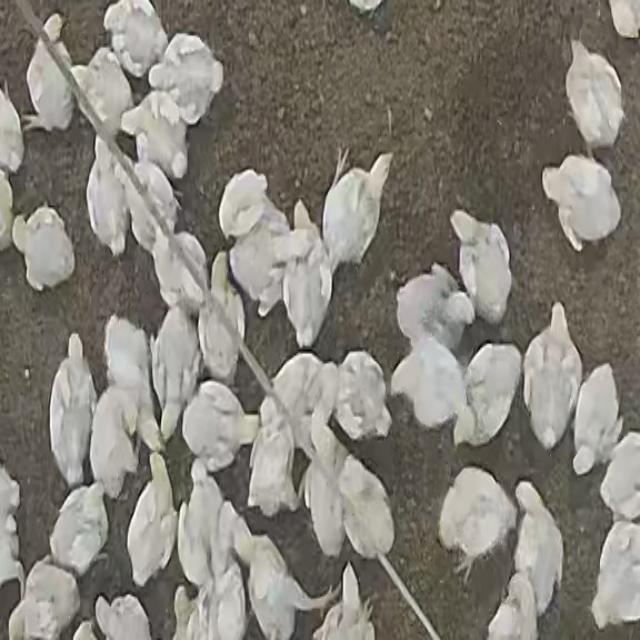chicken: (234, 522, 340, 640), (219, 170, 293, 314), (437, 464, 517, 583), (523, 305, 583, 451), (277, 202, 333, 348), (390, 335, 469, 438), (322, 153, 392, 267), (48, 335, 97, 492), (148, 32, 226, 130), (302, 393, 349, 555), (392, 263, 472, 355), (510, 479, 562, 620), (563, 35, 625, 153), (152, 300, 204, 437), (546, 152, 620, 248), (450, 207, 511, 320), (458, 343, 523, 449), (120, 90, 190, 187), (180, 380, 250, 476), (335, 453, 396, 563), (198, 520, 254, 639), (126, 451, 176, 584), (126, 143, 184, 255), (245, 395, 298, 517), (269, 353, 327, 464), (88, 383, 142, 500), (23, 19, 77, 134), (180, 459, 227, 590), (197, 261, 246, 385), (146, 215, 206, 314), (50, 480, 109, 580), (85, 135, 132, 258), (332, 348, 392, 442), (571, 364, 622, 474), (590, 518, 640, 630), (11, 560, 81, 639), (75, 47, 133, 140), (12, 205, 74, 291), (102, 1, 168, 79), (102, 316, 151, 410), (597, 429, 640, 520), (484, 572, 538, 640), (0, 458, 25, 594), (93, 594, 152, 640), (1, 79, 24, 175), (171, 586, 197, 640), (608, 0, 640, 38)
